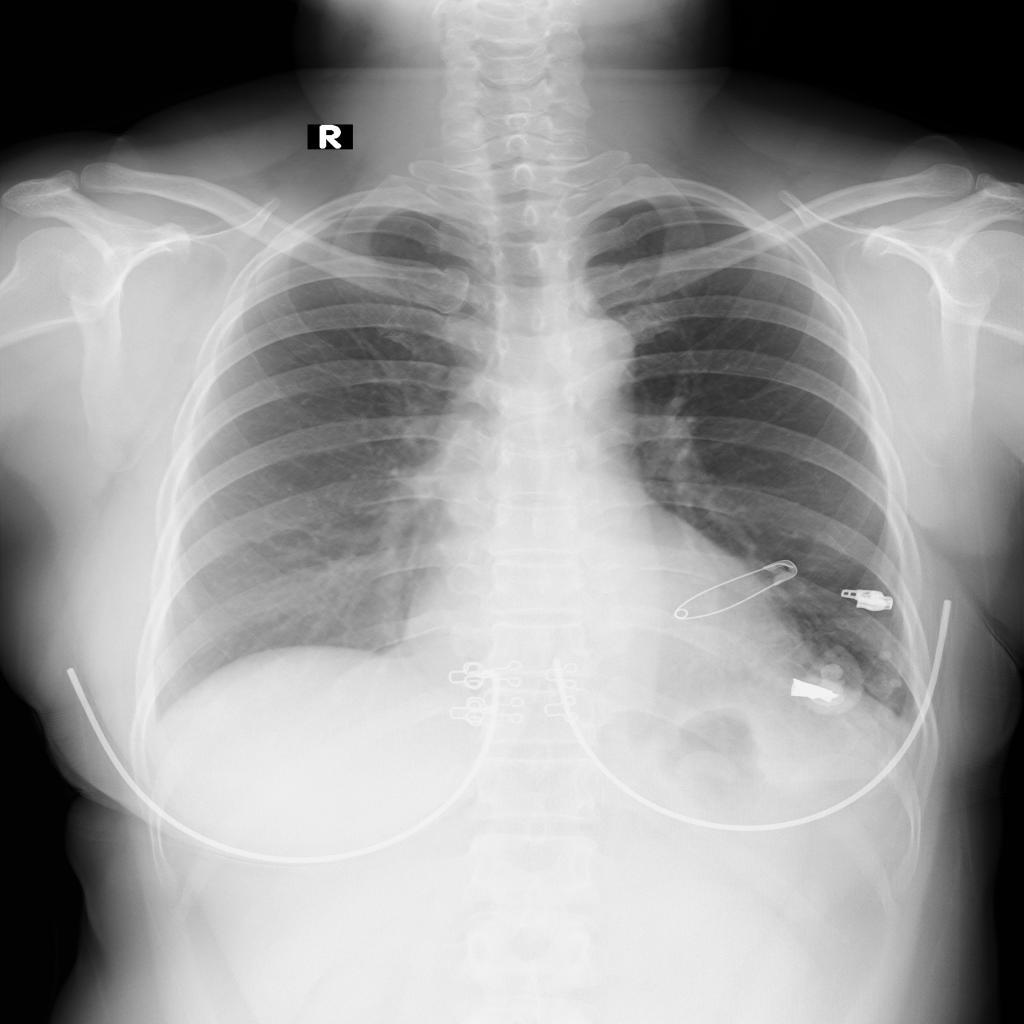Nodule: (877, 649, 892, 662), (890, 679, 904, 690)
